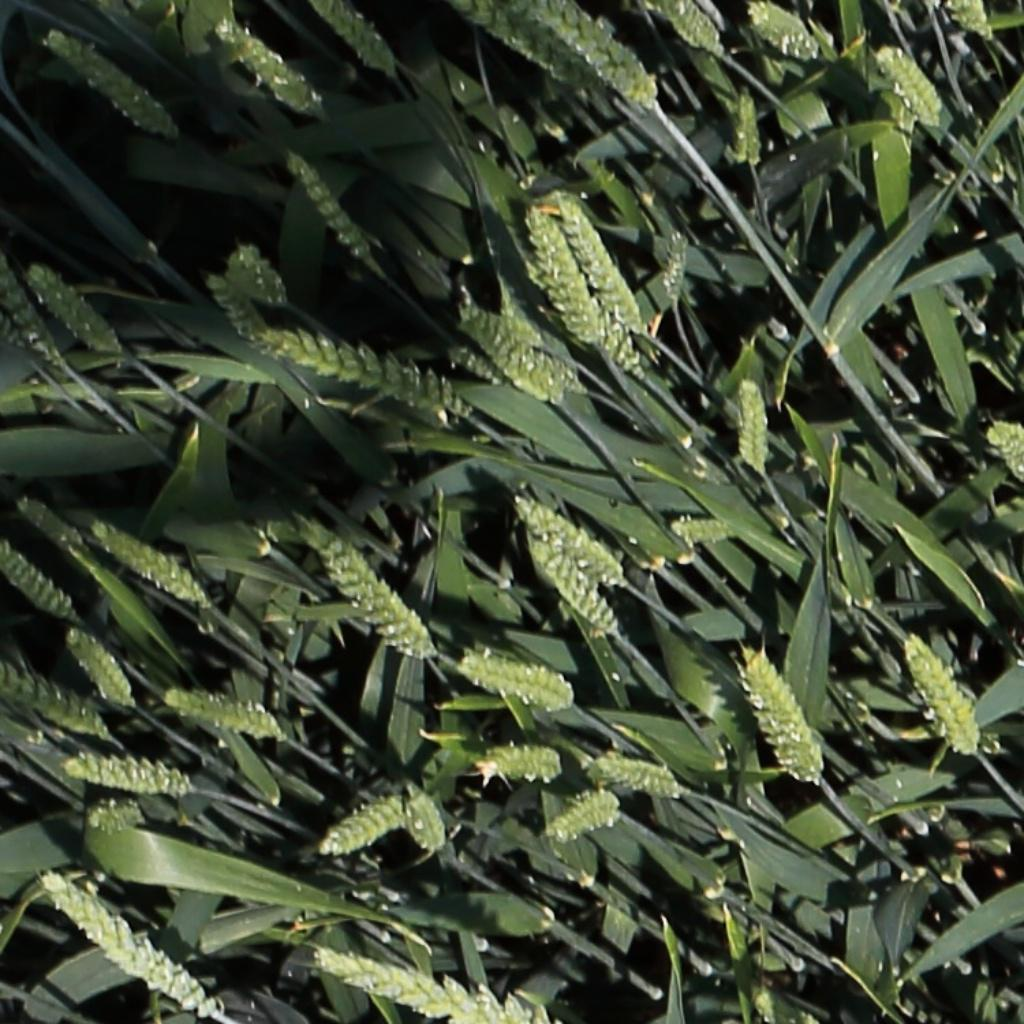0-0: (39, 872, 243, 1024), (247, 318, 476, 416), (309, 945, 587, 1024), (436, 0, 611, 111), (304, 521, 439, 662), (738, 645, 836, 796), (45, 31, 177, 141), (550, 193, 644, 333), (452, 294, 571, 402), (533, 2, 655, 106), (521, 200, 599, 346), (509, 492, 631, 584), (87, 522, 216, 607), (901, 632, 982, 765), (527, 535, 624, 646), (211, 16, 318, 114), (279, 146, 370, 259), (23, 260, 129, 357), (0, 252, 75, 375), (152, 685, 292, 749), (458, 644, 579, 717), (57, 744, 200, 800), (562, 286, 648, 379), (0, 666, 103, 739), (0, 542, 83, 630), (489, 329, 596, 395), (62, 625, 135, 714), (312, 0, 394, 76), (873, 42, 943, 129), (203, 269, 271, 353), (540, 788, 633, 843), (732, 370, 778, 480), (0, 949, 70, 1021), (315, 801, 405, 856), (475, 743, 568, 793), (223, 240, 286, 308), (15, 498, 90, 555), (746, 5, 819, 60), (659, 1, 722, 60), (400, 780, 445, 858), (593, 759, 679, 798), (659, 518, 749, 550), (86, 800, 156, 840), (660, 223, 690, 314), (445, 345, 506, 386), (988, 421, 1024, 490), (0, 304, 39, 362), (733, 83, 759, 169), (946, 1, 993, 43), (748, 981, 779, 1024)
